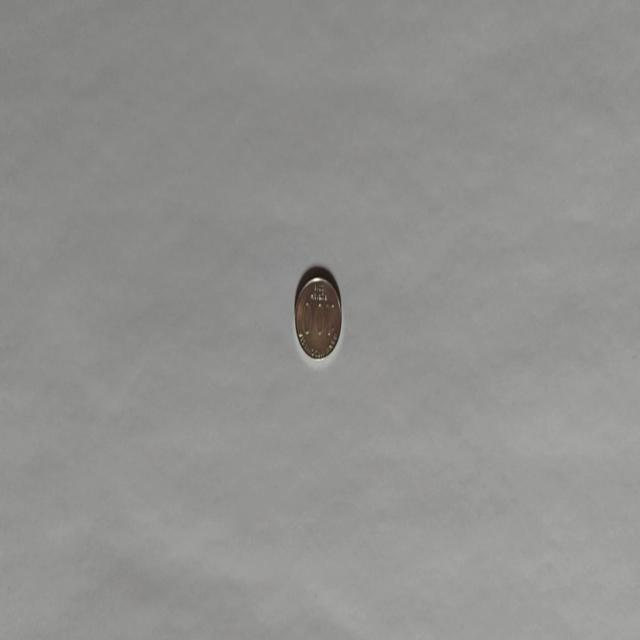seratus rupiah: (294, 274, 342, 361)
